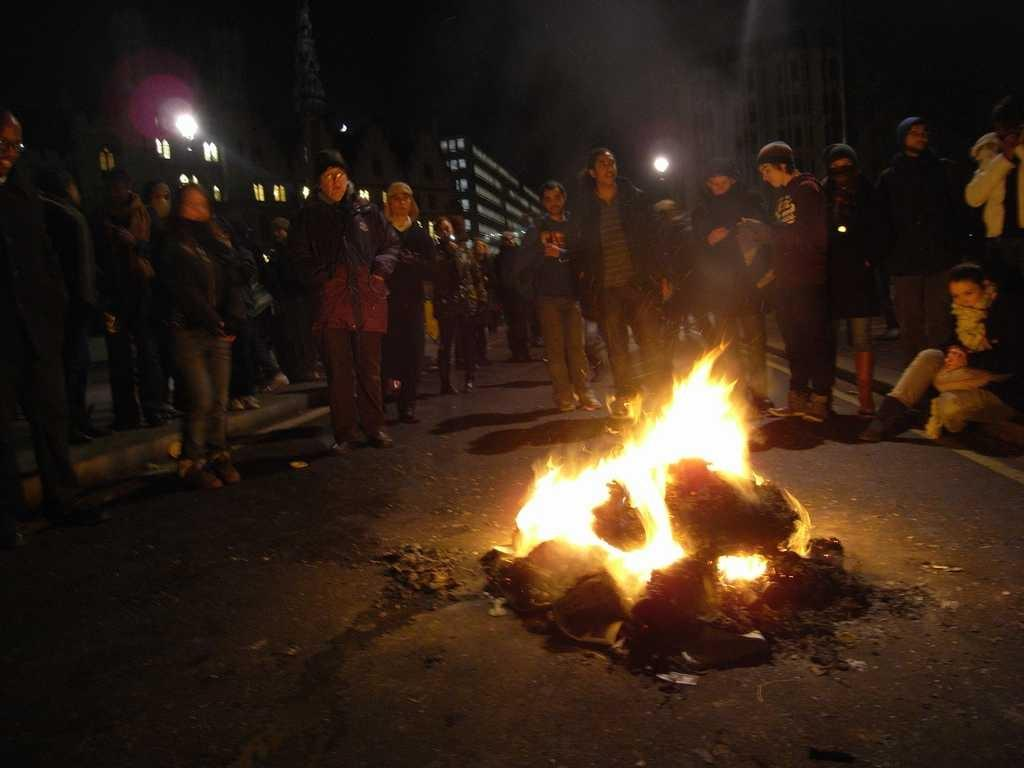fire: (665, 366, 742, 468), (525, 479, 595, 546), (614, 541, 668, 592)
